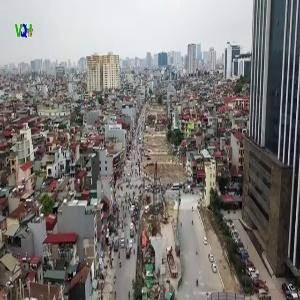drone: (162, 153, 220, 211)
